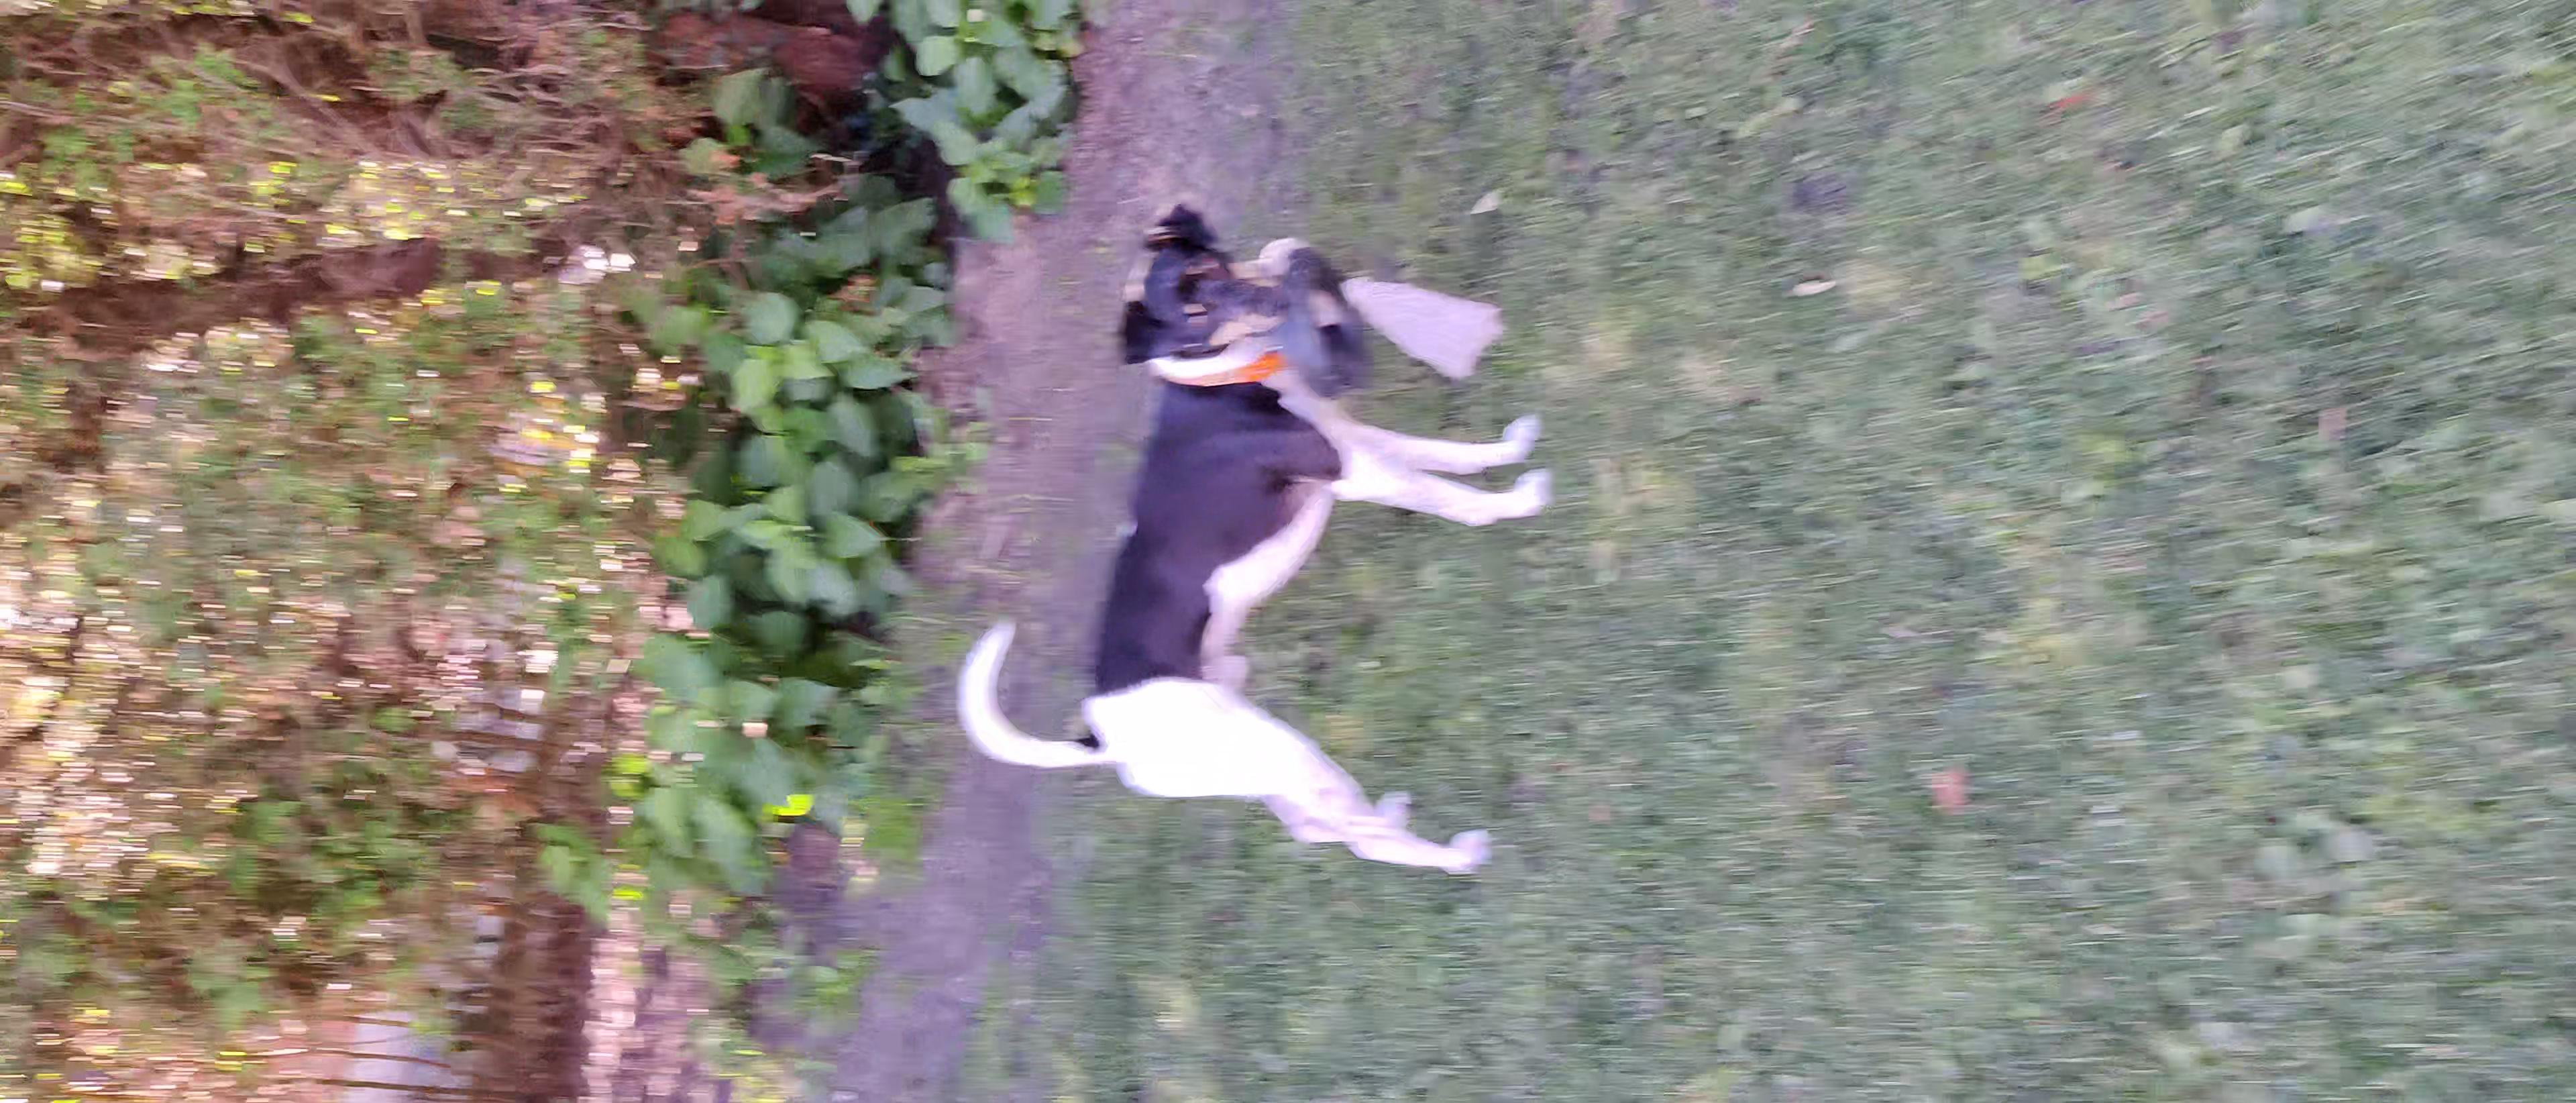Dog: (945, 196, 1562, 896)
